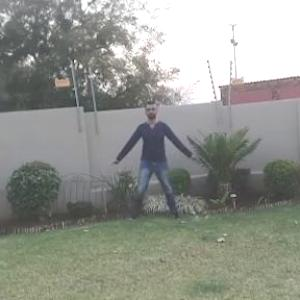land: (110, 97, 206, 224)
